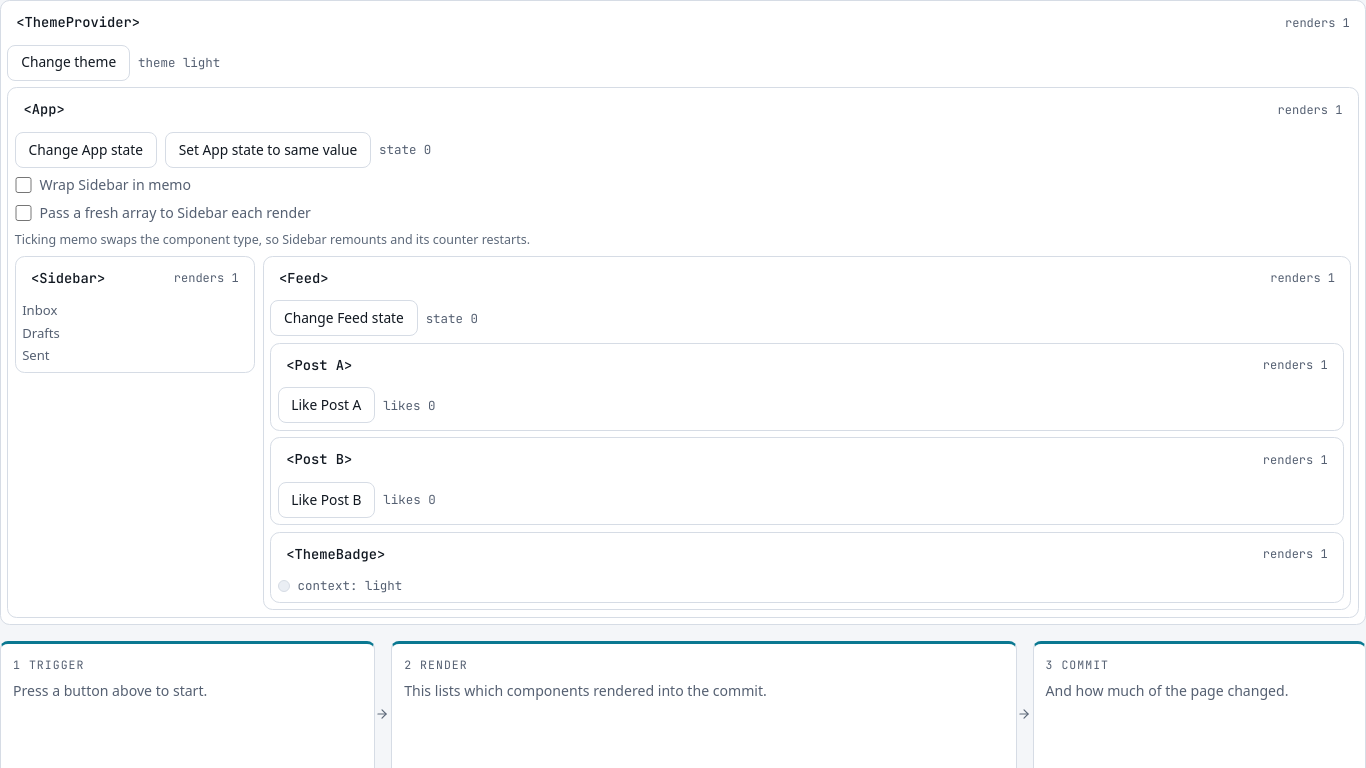
render-tree lab › counts a changed class on a plain element and ignores the counters
Click the button "Change theme". click: (69, 63)
box: [7, 45, 130, 81]
(page scrolled)
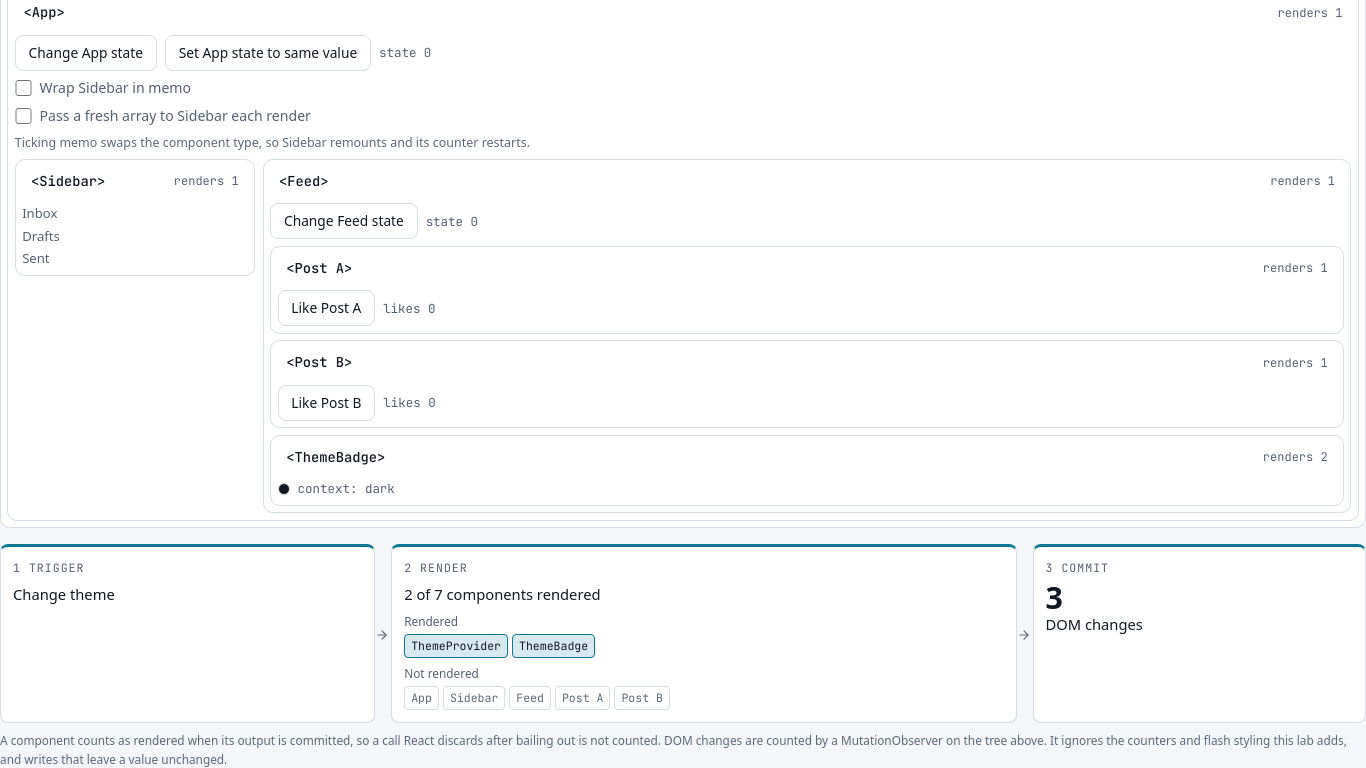
Now the text "Change theme" is shown, box [13, 584, 115, 604]
Now the message named "Last update" shows "3 DOM changes", box [0, 544, 1365, 723]
